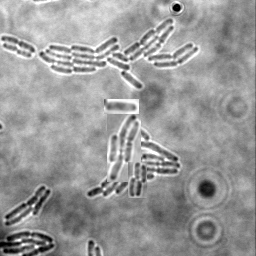Dividing: (1, 34, 37, 52), (104, 99, 139, 114), (3, 41, 33, 57)
Microcolony: (40, 18, 199, 89), (87, 120, 181, 197), (107, 114, 141, 182), (5, 184, 52, 226), (1, 230, 56, 255), (128, 162, 147, 198)
